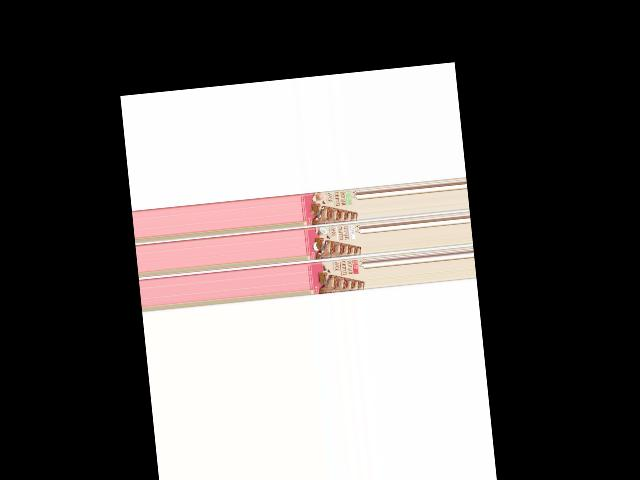chocolate: (299, 187, 358, 225)
